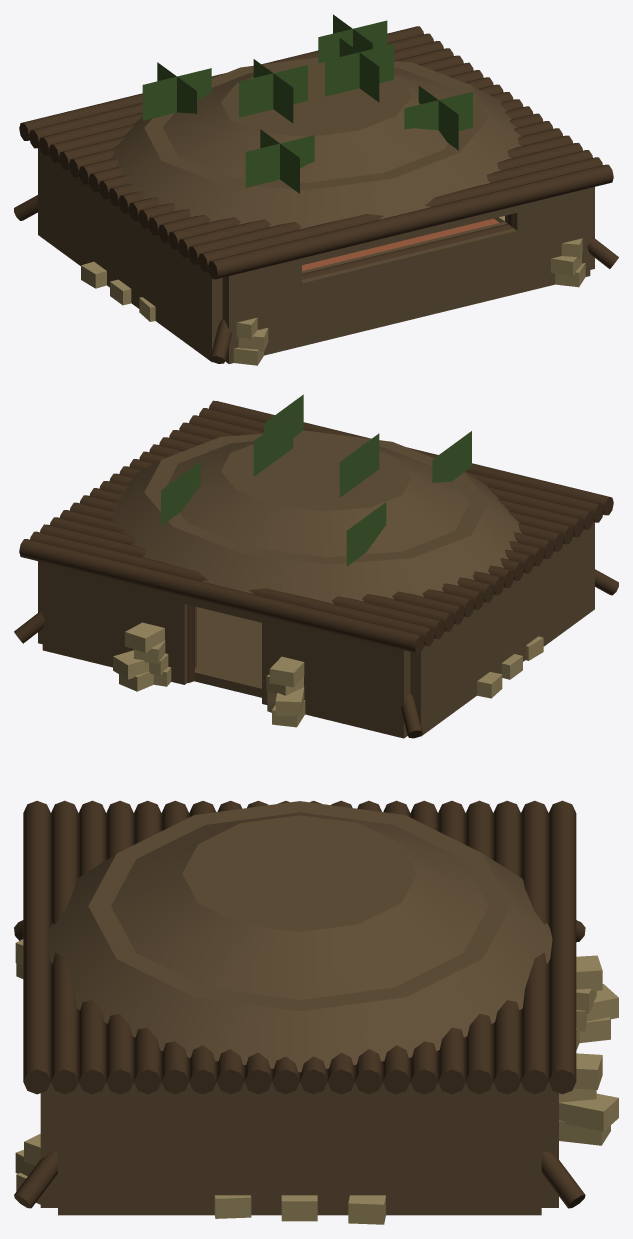
Rendered from nva-earthen-bunker.glb.
3 renders of one model, top to bottom at view 1: azimuth 30°, elevation 25°; view 2: azimuth 150°, elevation 25°; view 3: azimuth 270°, elevation 25°, orthographic. The views are drawn at different scales.
Visible parts, largest first — view 1: Mesh_EarthBase, Mesh_EarthTop, Mesh_BunkerInterior_WallFront_Sill, Mesh_BunkerInterior_WallRight, Mesh_Log_19, Mesh_BunkerInterior_WallFront_R, Mesh_BunkerInterior_WallFront_L, Mesh_Log_18, Mesh_CamoBush_5, Mesh_CamoBush_2, Mesh_CamoBush_1, Mesh_CamoBush_3 (+27 smaller); view 2: Mesh_EarthTop, Mesh_EarthBase, Mesh_BunkerInterior_WallRight, Mesh_BunkerInterior_WallBack_R, Mesh_BunkerInterior_WallBack_L, Mesh_Log0, Mesh_BunkerInterior_Floor, Mesh_Log_1, Mesh_Log_19, Mesh_Log_2, Mesh_Log_18, Mesh_Log_3 (+29 smaller); view 3: Mesh_BunkerInterior_WallLeft, Mesh_EarthTop, Mesh_EarthBase, Mesh_Log0, Mesh_Log_19, Mesh_Log_1, Mesh_Log_18, Mesh_Log_17, Mesh_Log_2, Mesh_Log_3, Mesh_Log_16, Mesh_Log_4 (+24 smaller).
Part boxes in pixels (bbox=[...]): Mesh_EarthBase: bbox=[111, 57, 521, 229]; Mesh_EarthTop: bbox=[163, 62, 459, 182]; Mesh_BunkerInterior_WallFront_Sill: bbox=[300, 221, 517, 346]; Mesh_BunkerInterior_WallRight: bbox=[38, 147, 222, 362]; Mesh_Log_19: bbox=[208, 164, 613, 279]; Mesh_BunkerInterior_WallFront_R: bbox=[222, 258, 301, 363]; Mesh_BunkerInterior_WallFront_L: bbox=[505, 188, 590, 293]; Mesh_Log_18: bbox=[198, 157, 602, 271]; Mesh_CamoBush_5: bbox=[239, 59, 307, 123]; Mesh_CamoBush_2: bbox=[325, 38, 393, 102]; Mesh_CamoBush_1: bbox=[245, 129, 314, 193]; Mesh_CamoBush_3: bbox=[142, 62, 211, 120]; Mesh_EarthTop: bbox=[166, 437, 469, 557]; Mesh_EarthBase: bbox=[111, 430, 521, 603]; Mesh_BunkerInterior_WallRight: bbox=[410, 522, 594, 736]; Mesh_BunkerInterior_WallBack_R: bbox=[262, 616, 410, 738]; Mesh_BunkerInterior_WallBack_L: bbox=[42, 562, 196, 684]; Mesh_Log0: bbox=[19, 539, 424, 653]; Mesh_BunkerInterior_Floor: bbox=[194, 607, 261, 697]; Mesh_Log_1: bbox=[30, 531, 434, 646]; Mesh_Log_19: bbox=[209, 400, 613, 515]; Mesh_Log_2: bbox=[40, 524, 444, 638]; Mesh_Log_18: bbox=[199, 408, 603, 522]; Mesh_Log_3: bbox=[50, 517, 454, 631]; Mesh_BunkerInterior_WallLeft: bbox=[58, 1082, 541, 1215]; Mesh_EarthTop: bbox=[111, 812, 488, 999]; Mesh_EarthBase: bbox=[47, 801, 552, 1072]; Mesh_Log0: bbox=[548, 800, 576, 1094]; Mesh_Log_19: bbox=[23, 800, 50, 1094]; Mesh_Log_1: bbox=[521, 800, 548, 1094]; Mesh_Log_18: bbox=[51, 800, 78, 1094]; Mesh_Log_17: bbox=[78, 800, 106, 1094]; Mesh_Log_2: bbox=[493, 800, 520, 1094]; Mesh_Log_3: bbox=[465, 800, 493, 1094]; Mesh_Log_16: bbox=[106, 800, 133, 1094]; Mesh_Log_4: bbox=[438, 800, 465, 1094].
Size of the model in its own units: 4.77 by 2.1 by 4.38.
1 material, 1 textured.
